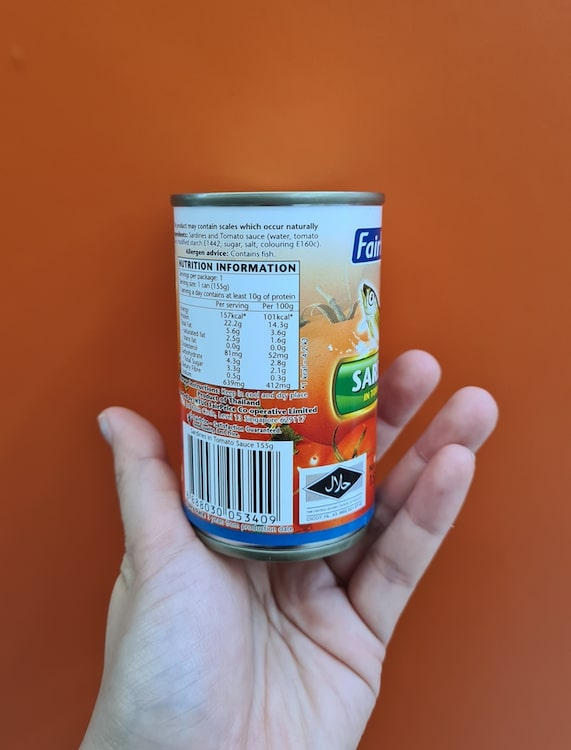Halal: (305, 467, 362, 497)
